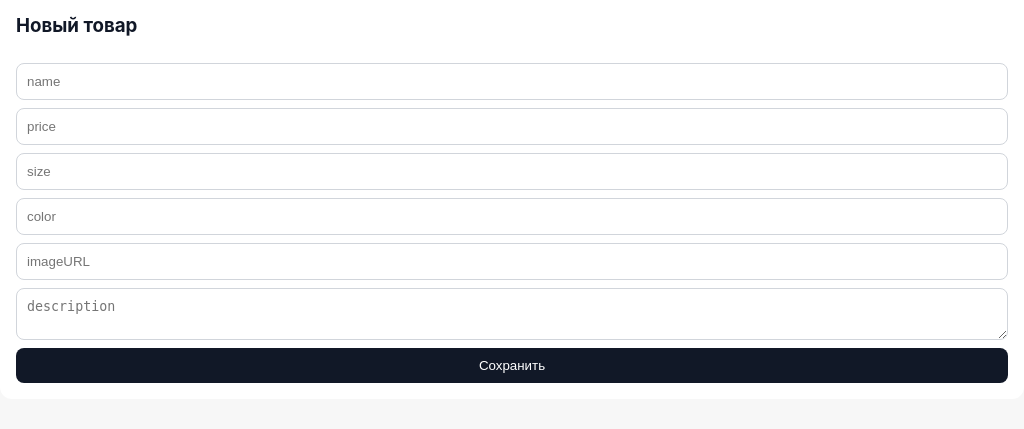
показывает ошибку если name пустой
In the number field with placeholder "price": coordinates (512, 127) [16,108,1008,145], type "1000"
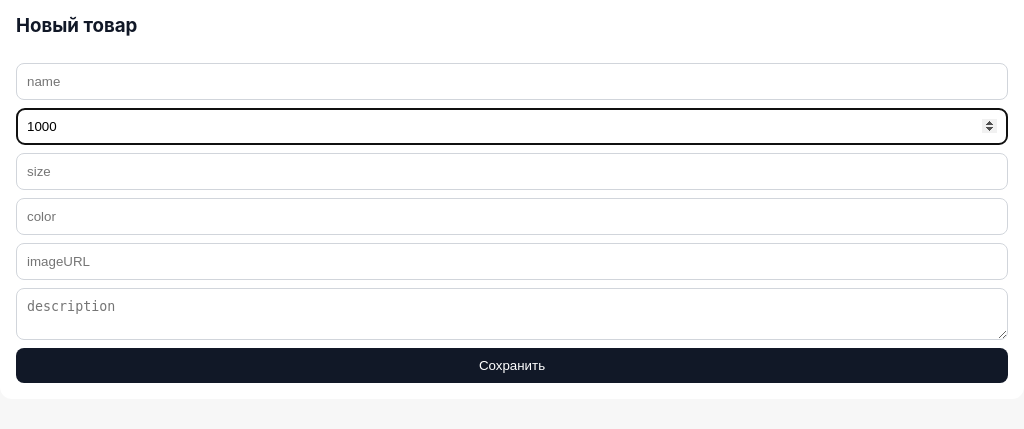
Click the button "Сохранить": coordinates (512, 366) [16,348,1008,383]
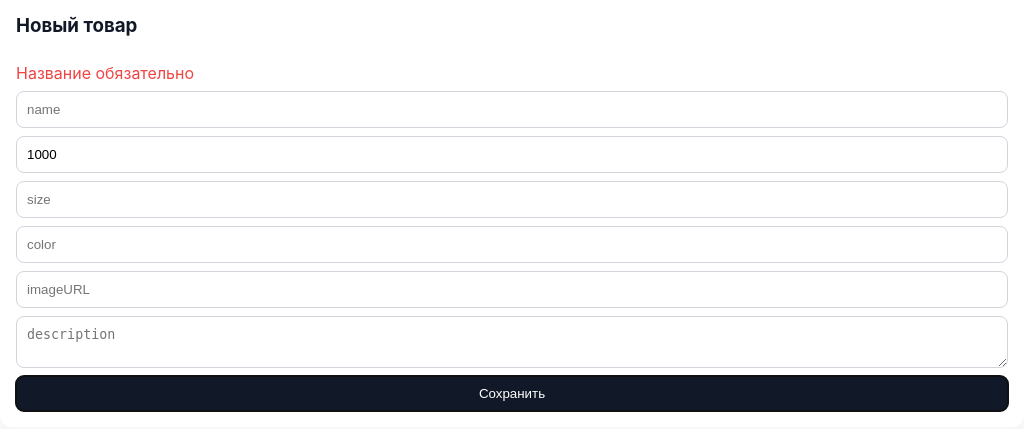
Check: the text "Название обязательно" is shown, box [16,63,194,83]
